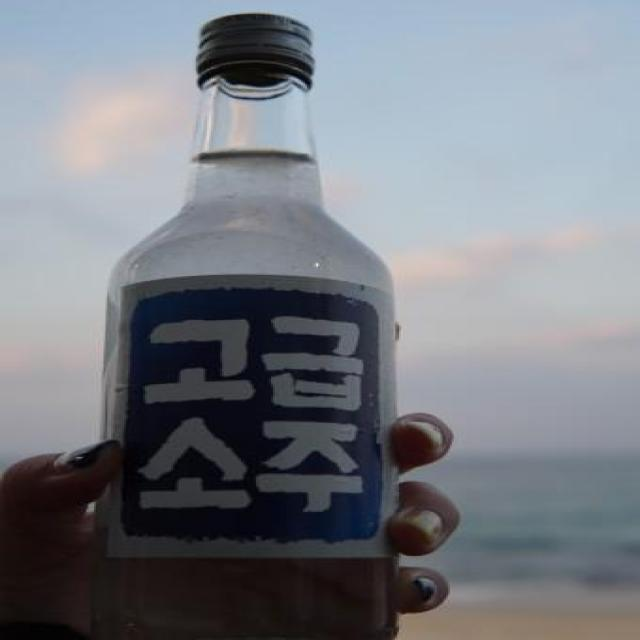soju-bottle: (88, 11, 400, 640)
